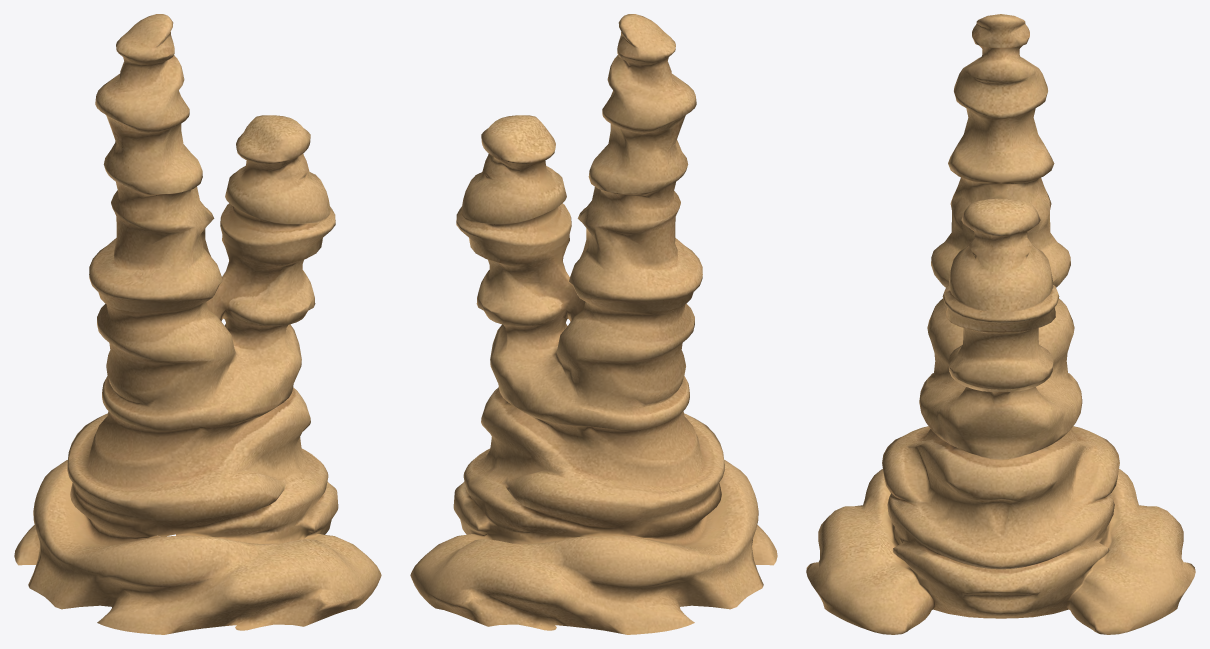
The model's file is tripo_convert_4ae1bde5-76f3-4698-bc73-89cb83ec5d1d.fbx.
3 renders of one model, left to right at view 1: azimuth 30°, elevation 25°; view 2: azimuth 150°, elevation 25°; view 3: azimuth 270°, elevation 25°, orthographic.
Visible parts, largest first — view 1: tripo_node_4ae1bde5; view 2: tripo_node_4ae1bde5; view 3: tripo_node_4ae1bde5.
Part boxes in pixels (x1,y1,x2,y2): tripo_node_4ae1bde5: (14, 14, 381, 634); tripo_node_4ae1bde5: (410, 14, 777, 634); tripo_node_4ae1bde5: (806, 14, 1195, 634).
Bounding box in the file's own units: 0.5405 × 0.9995 × 0.6499.
1 material, 1 textured.
